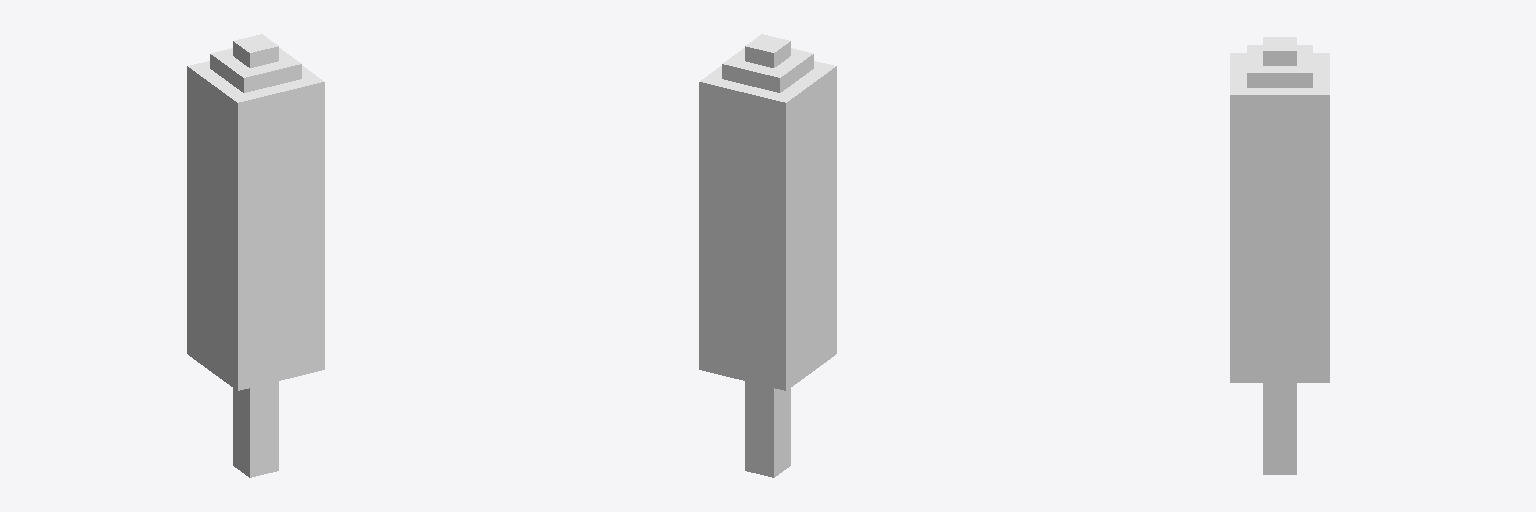
Rendered from tree1.mtl.obj.
3 renders of one model, left to right at view 1: azimuth 30°, elevation 25°; view 2: azimuth 150°, elevation 25°; view 3: azimuth 270°, elevation 25°, orthographic.
Visible parts, largest first — view 1: tree1.mtl; view 2: tree1.mtl; view 3: tree1.mtl.
Part boxes in pixels (bbox=[...]): tree1.mtl: bbox=[187, 34, 324, 477]; tree1.mtl: bbox=[699, 34, 836, 477]; tree1.mtl: bbox=[1230, 37, 1329, 474].
Bounding box in the file's own units: 6 × 28 × 6.